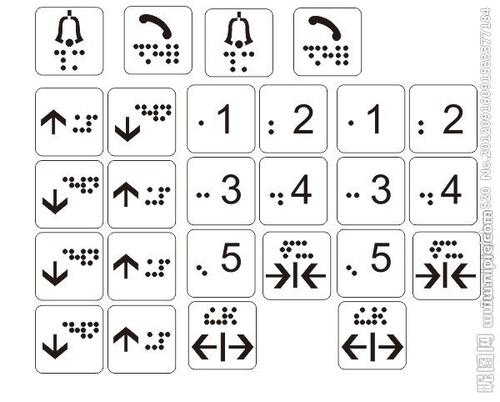Braille: (268, 119, 284, 146), (347, 120, 362, 147), (172, 42, 188, 66), (197, 119, 213, 143), (239, 50, 255, 73), (71, 49, 87, 71), (418, 120, 432, 145), (130, 42, 145, 65), (221, 50, 236, 73), (314, 43, 329, 66), (71, 113, 86, 136), (159, 42, 173, 66), (343, 43, 357, 67), (52, 49, 67, 71), (346, 193, 361, 215), (329, 43, 342, 68), (145, 43, 159, 66), (86, 114, 100, 137), (269, 192, 284, 213), (419, 192, 433, 214), (366, 305, 379, 328), (146, 103, 160, 124), (196, 192, 210, 213), (302, 44, 315, 66), (346, 264, 359, 286), (86, 176, 101, 195), (157, 186, 171, 206), (143, 331, 157, 351), (157, 331, 171, 351), (203, 306, 217, 326), (378, 306, 391, 327), (306, 240, 320, 259), (158, 258, 171, 278), (294, 240, 307, 260), (195, 264, 208, 284), (134, 104, 147, 123), (75, 176, 88, 195), (144, 186, 157, 205), (62, 248, 75, 267), (86, 248, 99, 267), (62, 321, 75, 340), (160, 104, 172, 124), (86, 321, 98, 341), (354, 306, 366, 326), (62, 176, 75, 194), (74, 248, 86, 267), (145, 259, 157, 278), (446, 240, 458, 259), (75, 322, 87, 341), (216, 307, 228, 326), (229, 308, 239, 327), (458, 241, 469, 258), (286, 239, 295, 259), (437, 240, 446, 259), (429, 240, 438, 258), (280, 240, 287, 259)
